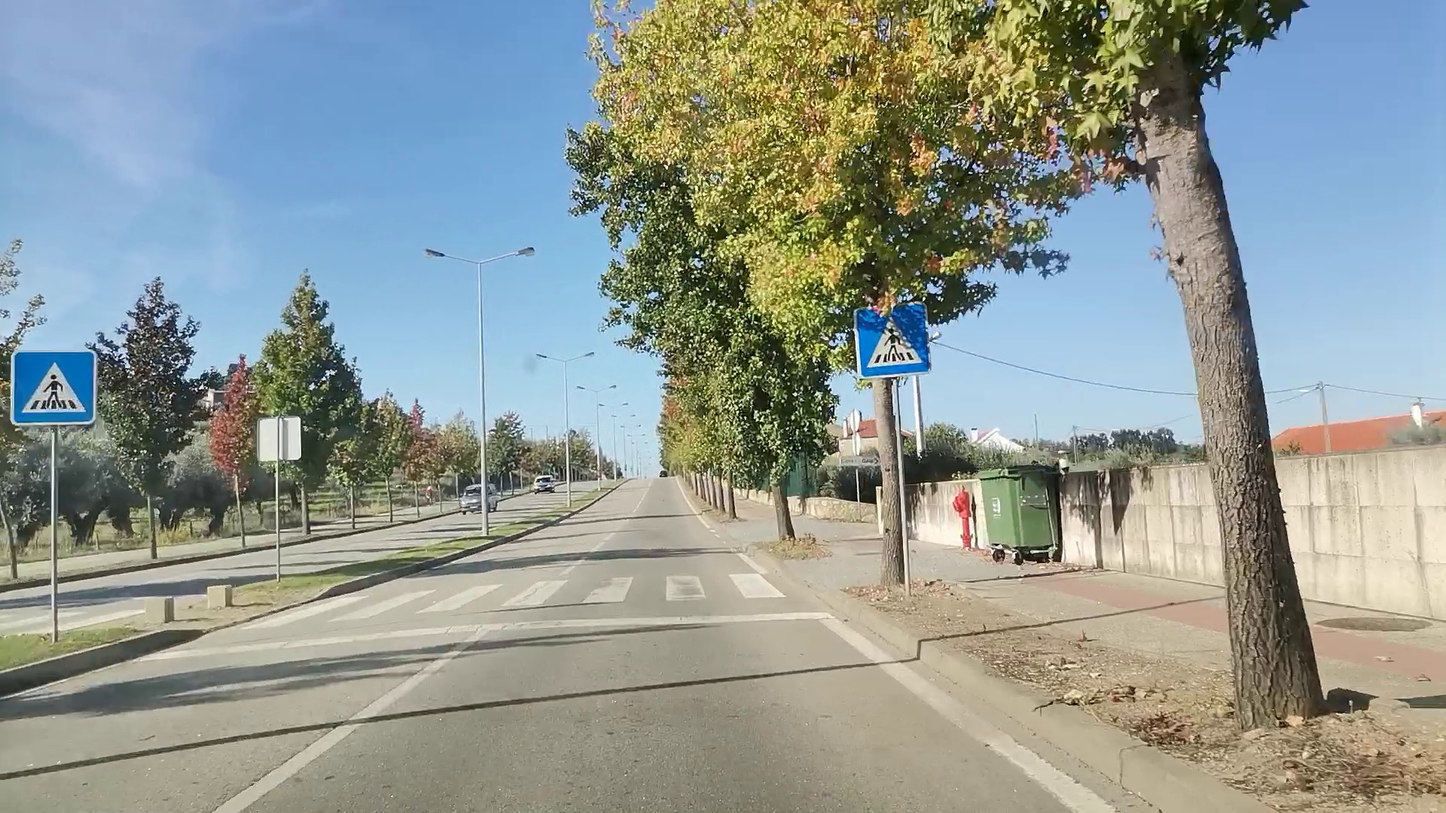Stairs: (283, 572, 811, 626)
